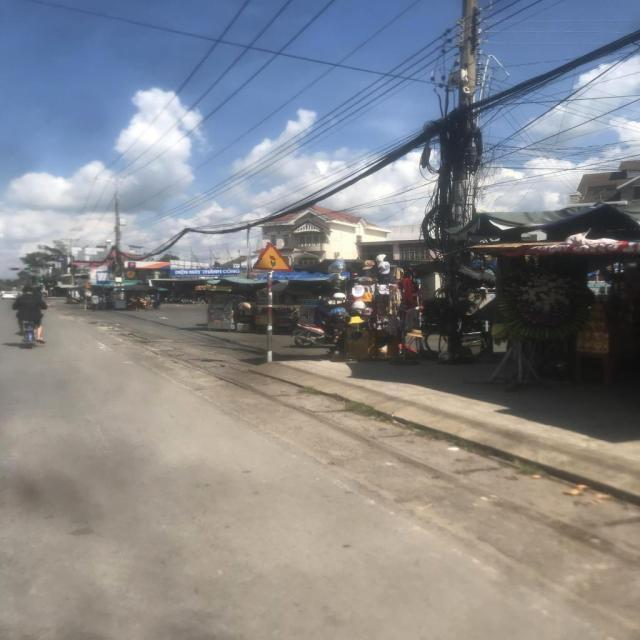209-giao-nhau-co-tin-hieu-den: (253, 242, 291, 274)
